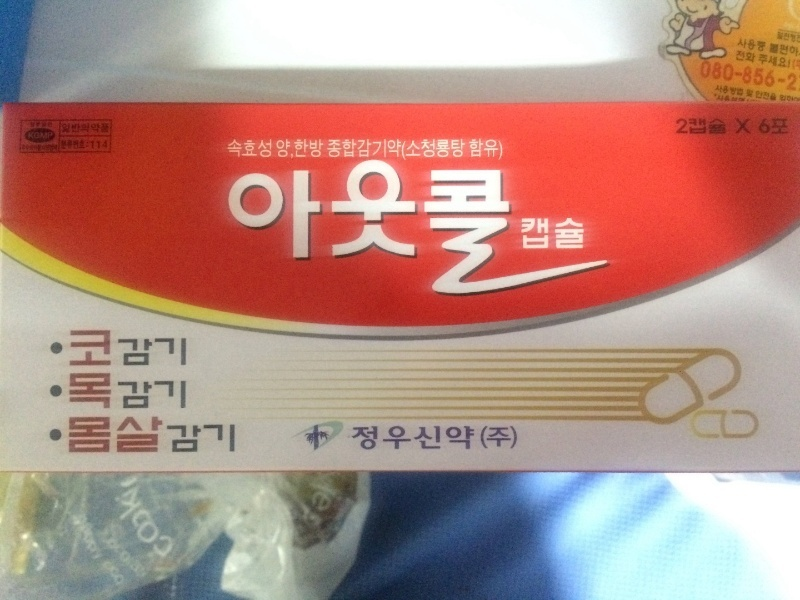text: (417, 168, 432, 313), (433, 168, 448, 313), (449, 168, 464, 313), (465, 168, 480, 313), (481, 168, 496, 313), (497, 168, 512, 313), (513, 168, 528, 313), (529, 168, 544, 313), (545, 168, 560, 313), (561, 168, 576, 313), (577, 168, 592, 313), (593, 168, 608, 313), (241, 153, 256, 262), (257, 153, 272, 262), (273, 153, 288, 262), (289, 153, 304, 262), (305, 153, 320, 262), (321, 153, 336, 262), (337, 153, 352, 262), (353, 153, 368, 262), (369, 153, 384, 262), (385, 153, 400, 262), (401, 153, 416, 262), (226, 153, 240, 262), (145, 479, 160, 569), (161, 479, 176, 569), (97, 504, 112, 592), (113, 504, 128, 592), (609, 168, 616, 313), (89, 504, 96, 592), (129, 504, 136, 592), (81, 330, 96, 368), (97, 330, 112, 368), (81, 373, 96, 411), (97, 373, 112, 411), (81, 416, 96, 454), (97, 416, 112, 454), (113, 416, 128, 454), (129, 416, 144, 454), (145, 416, 160, 454), (529, 217, 544, 251), (545, 217, 560, 251), (561, 217, 576, 251), (705, 59, 720, 92), (721, 59, 736, 92), (737, 59, 752, 92), (753, 59, 768, 92), (769, 59, 784, 92), (129, 337, 144, 368), (145, 337, 160, 368), (161, 337, 176, 368), (177, 423, 192, 454), (193, 423, 208, 454), (209, 423, 224, 454), (68, 416, 80, 454), (129, 380, 144, 409), (145, 380, 160, 409), (161, 380, 176, 409), (69, 330, 80, 368), (69, 373, 80, 411), (321, 488, 335, 517), (785, 59, 797, 92), (353, 426, 368, 452), (369, 426, 384, 452), (385, 426, 400, 452), (401, 426, 416, 452), (417, 426, 432, 452), (433, 426, 448, 452), (449, 426, 464, 452), (465, 426, 480, 452), (481, 426, 496, 452), (497, 426, 512, 452), (337, 138, 352, 162), (353, 138, 368, 162), (369, 138, 384, 162), (385, 138, 400, 162), (401, 138, 416, 162), (417, 138, 432, 162), (433, 138, 448, 162), (449, 138, 464, 162), (481, 138, 496, 162), (117, 337, 128, 368), (177, 337, 188, 368), (225, 423, 236, 454), (117, 380, 128, 409), (166, 423, 176, 454), (577, 217, 586, 251), (241, 139, 256, 158), (257, 139, 272, 158), (305, 139, 320, 158), (689, 117, 704, 135), (705, 117, 720, 135), (721, 117, 736, 135), (737, 117, 752, 135), (753, 117, 768, 135), (769, 117, 784, 135), (141, 479, 144, 569), (469, 138, 480, 162), (177, 380, 186, 409), (326, 138, 336, 162), (769, 43, 784, 59), (769, 53, 784, 69), (521, 217, 528, 251), (277, 139, 288, 160), (228, 139, 240, 158), (785, 43, 799, 59), (417, 153, 419, 262), (676, 117, 688, 135), (738, 38, 752, 53), (753, 38, 767, 53), (737, 50, 752, 64), (785, 31, 800, 44), (721, 84, 736, 97), (294, 139, 304, 158), (65, 139, 80, 151), (314, 488, 320, 517), (497, 138, 504, 162), (65, 123, 80, 134), (81, 123, 96, 134), (513, 426, 519, 452), (97, 123, 111, 134), (759, 53, 768, 69), (33, 132, 48, 141), (756, 91, 768, 102), (785, 94, 800, 102), (33, 144, 48, 152), (97, 141, 109, 151), (289, 139, 294, 160), (33, 122, 48, 129), (785, 53, 791, 69), (81, 139, 89, 151), (777, 31, 784, 44), (737, 84, 744, 97), (785, 117, 790, 135), (177, 479, 178, 569), (769, 91, 777, 102), (22, 144, 32, 152), (161, 416, 163, 454), (49, 144, 58, 152), (702, 59, 704, 92), (715, 84, 720, 97), (321, 139, 324, 158), (753, 50, 757, 64), (91, 141, 96, 151), (747, 89, 752, 98), (779, 94, 784, 102), (28, 132, 32, 141), (49, 132, 53, 141), (61, 139, 64, 151), (49, 122, 53, 129), (465, 138, 466, 162), (62, 123, 64, 134), (753, 89, 754, 98), (31, 122, 32, 129)
